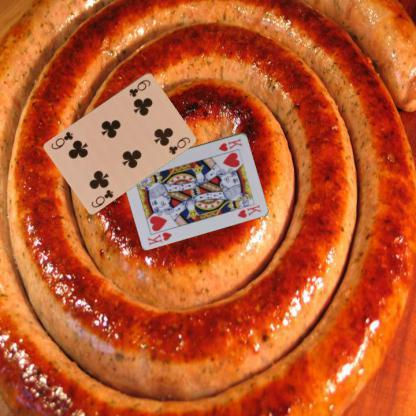6c: (126, 76, 152, 98), (88, 186, 114, 208)
Kh: (144, 229, 173, 247), (216, 136, 243, 152)
